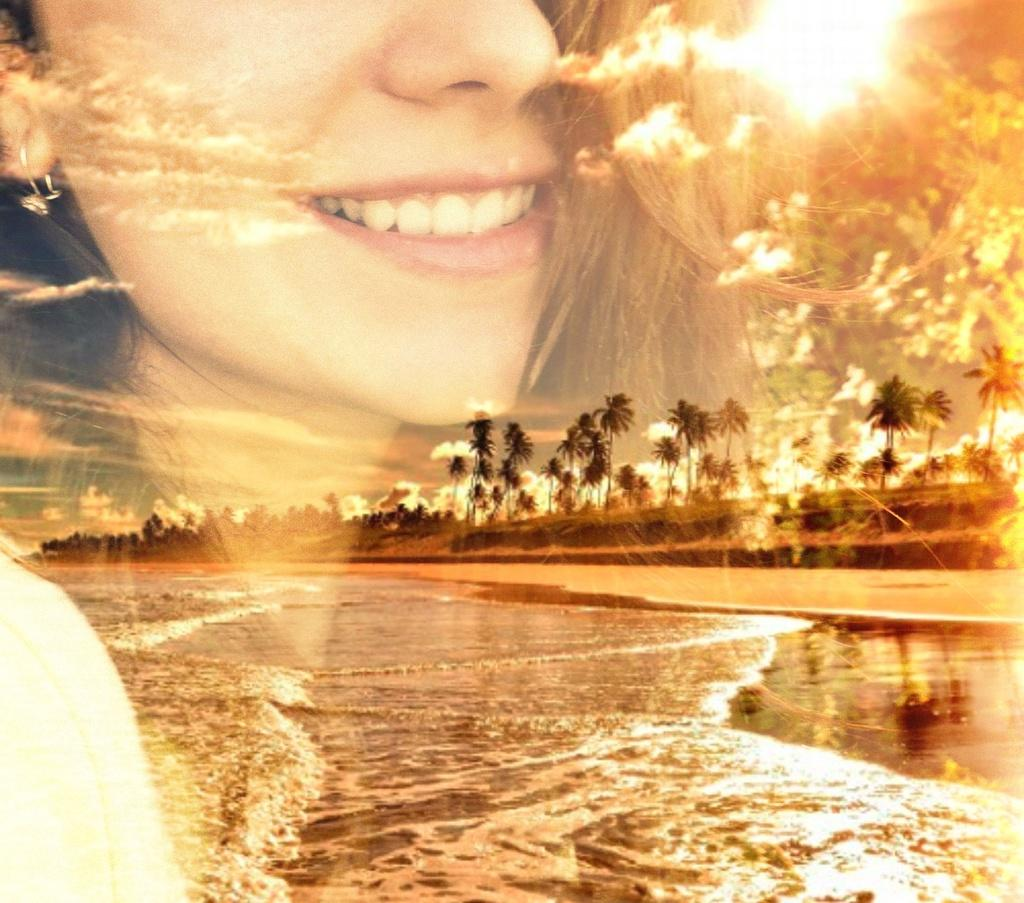Sem Máscara: (29, 0, 573, 427)
